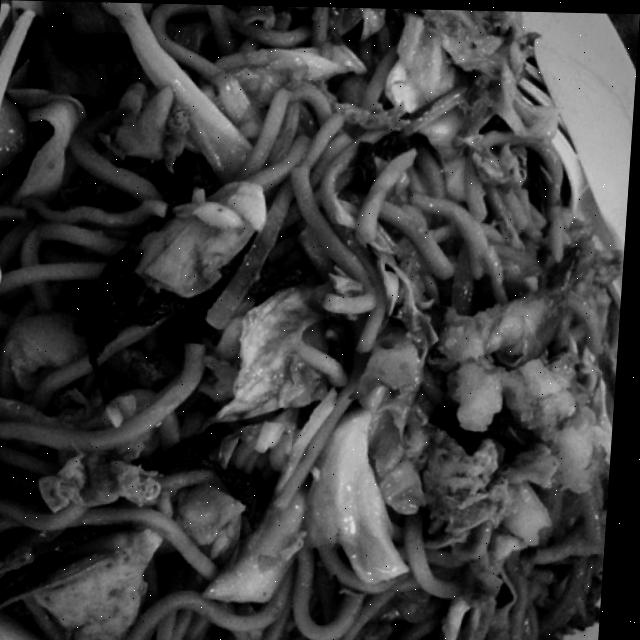面条主食: (0, 30, 605, 640)
